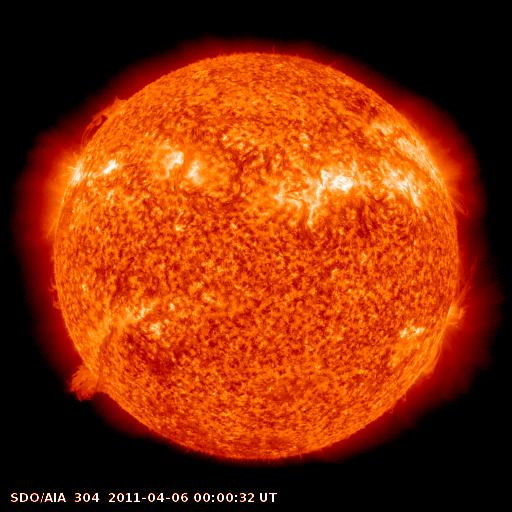prominence: (441, 238, 504, 305), (78, 85, 142, 150), (59, 362, 116, 408), (41, 243, 72, 317), (414, 337, 451, 382)
